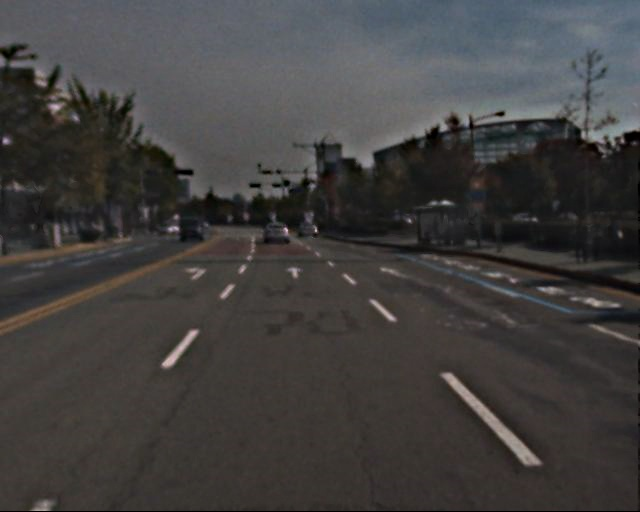person: (565, 212, 625, 267)
